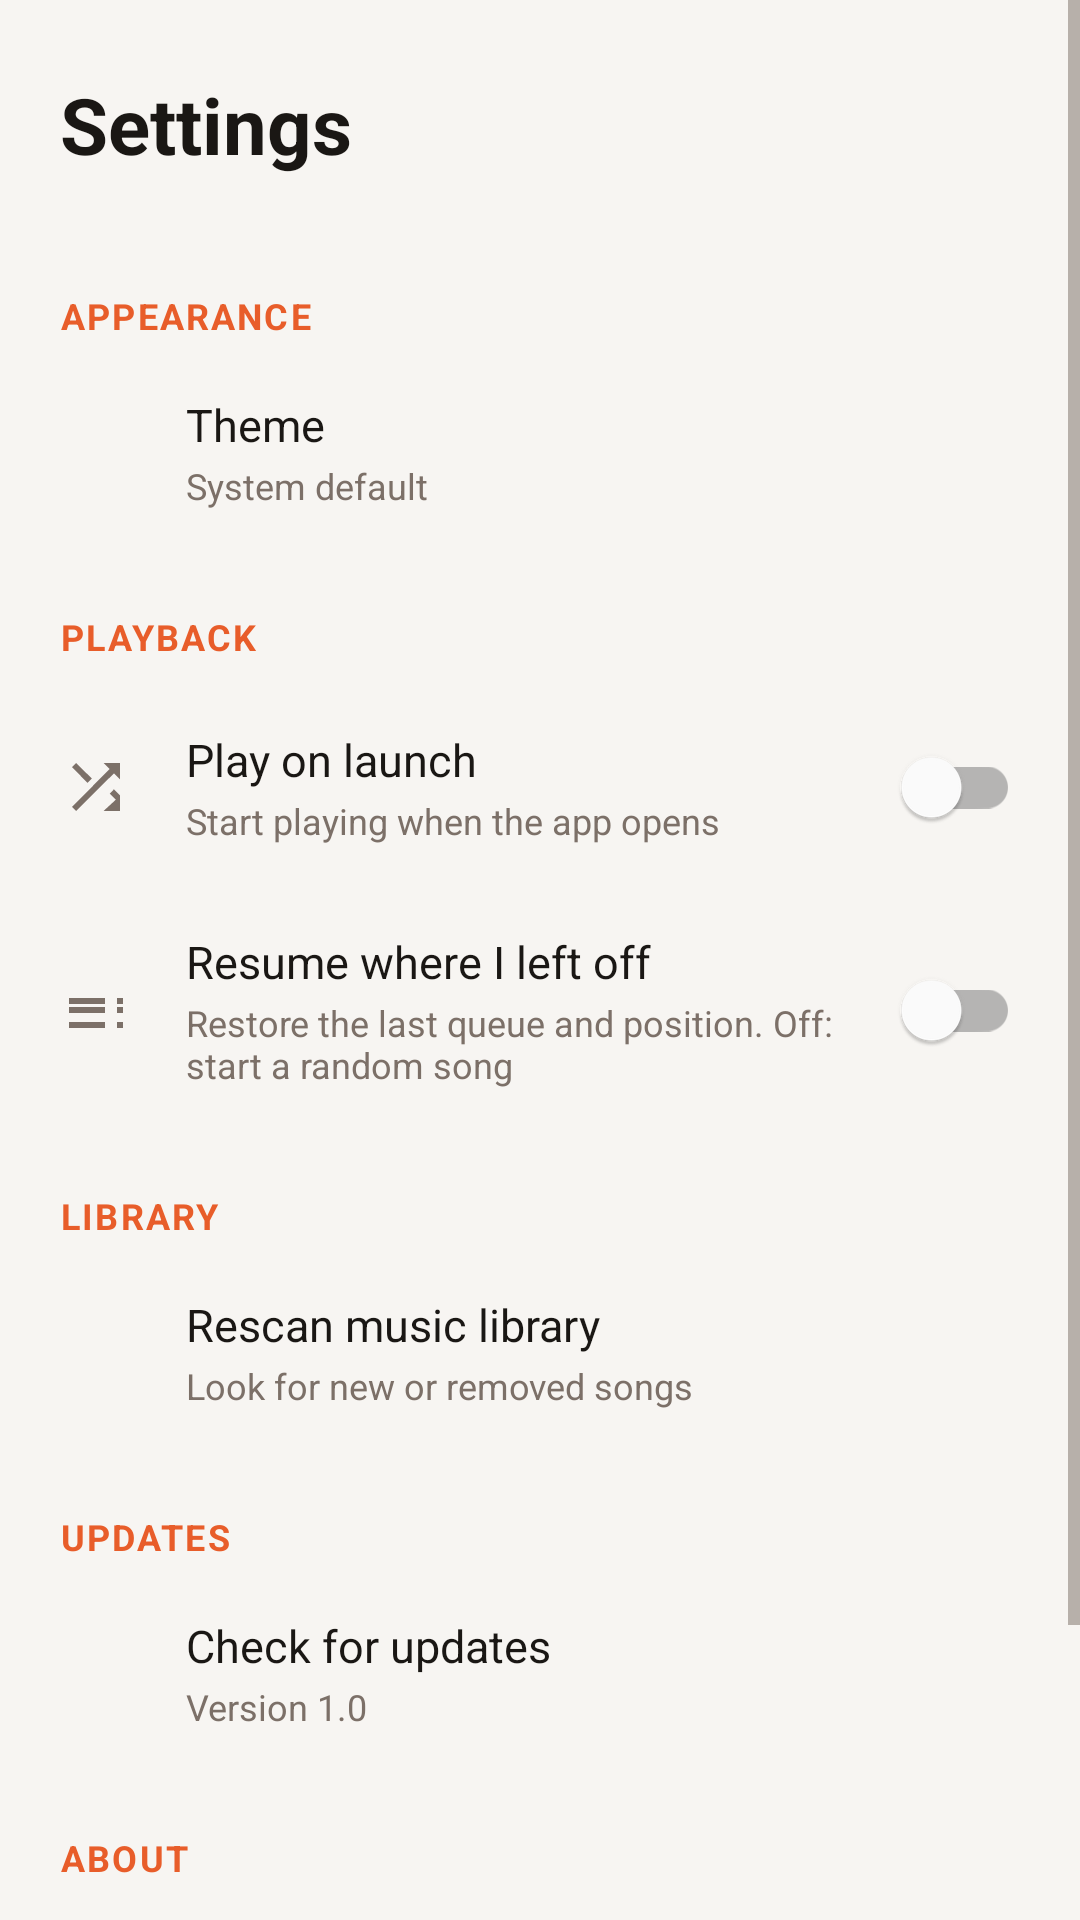

Named icons in this screenshot (1080x1920) and their bounding boxes, BBox(x1, y1, x2, y2):
shuffle: BBox(72, 763, 120, 811)
